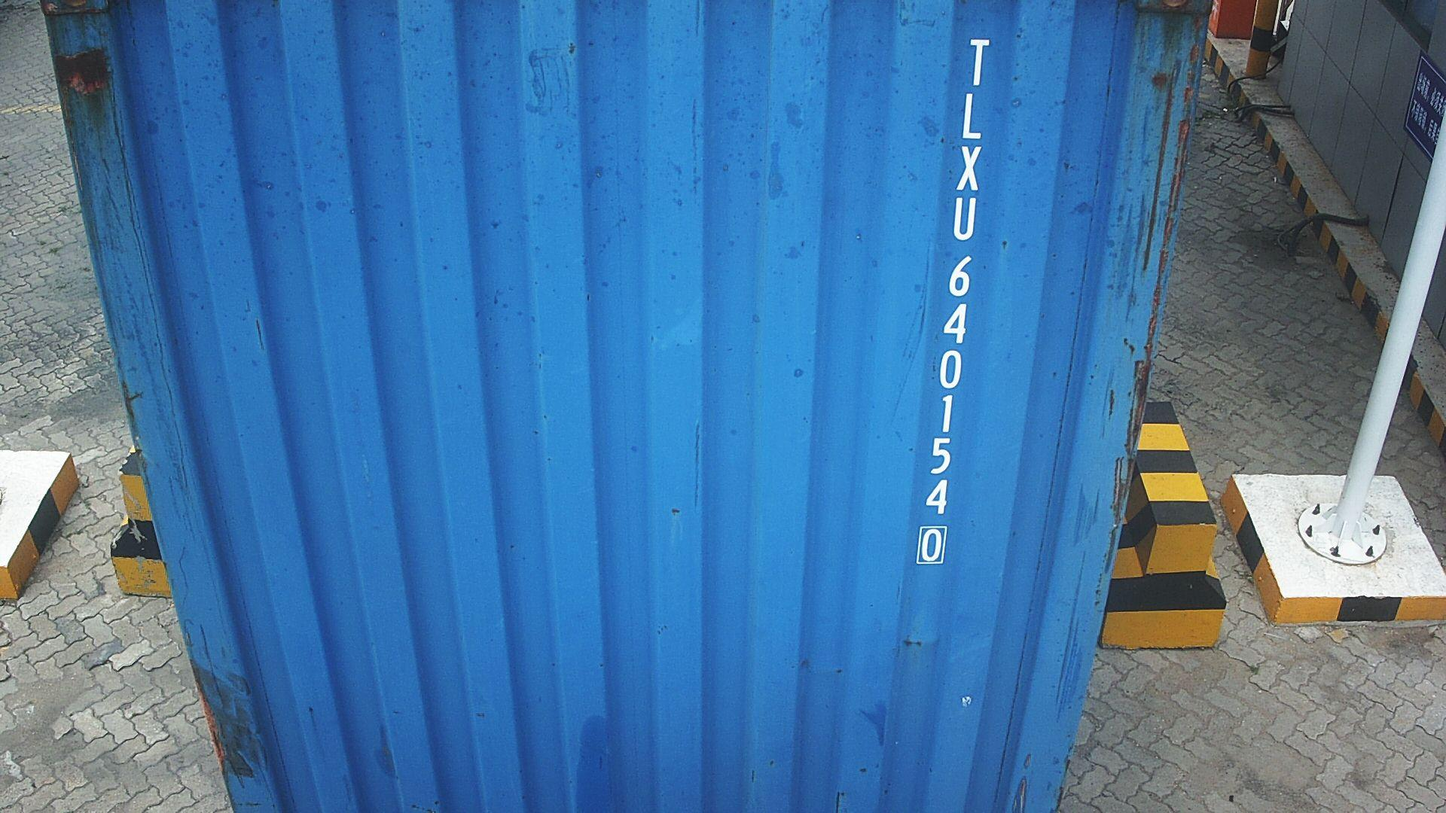container-numbers: (914, 32, 995, 571)
